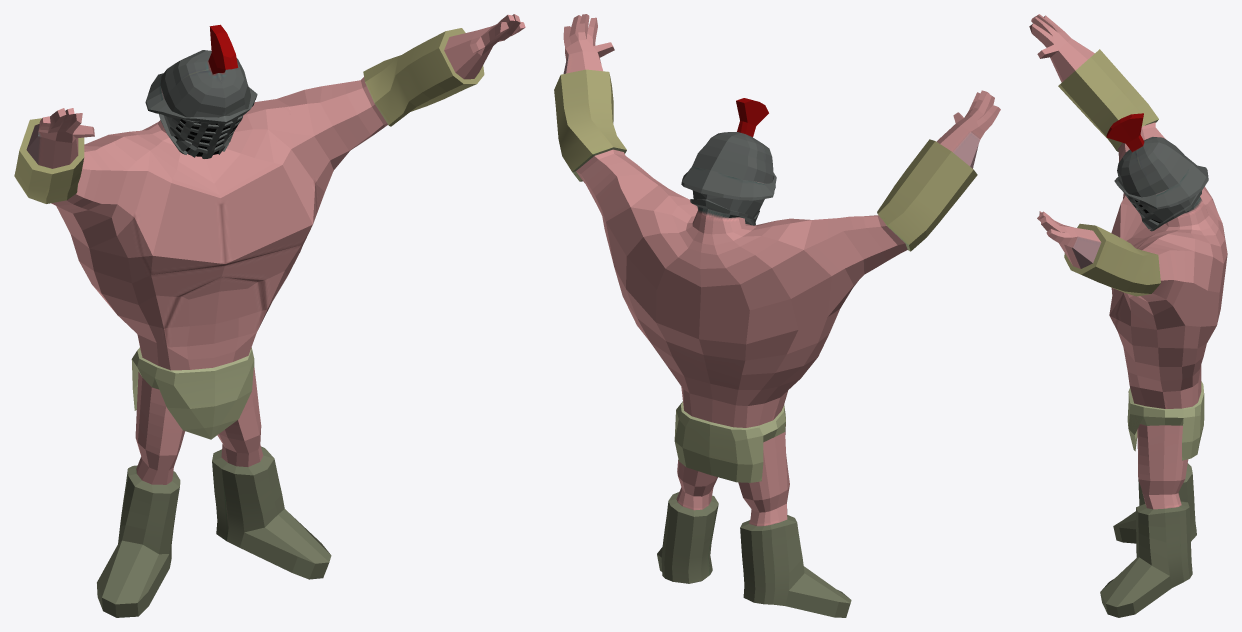
Rendered from GladiatorCelebracion_000542.obj.
The picture shows the model from 3 angles, left to right: view 1: azimuth 30°, elevation 25°; view 2: azimuth 150°, elevation 25°; view 3: azimuth 270°, elevation 25°; orthographic projection. The views are drawn at different scales.
Parts seen in each view (by area): view 1: Gadiador_Gladiador_H; view 2: Gadiador_Gladiador_H; view 3: Gadiador_Gladiador_H.
Part boxes in pixels (x1,y1,x2,y2): Gadiador_Gladiador_H: (14, 14, 525, 617); Gadiador_Gladiador_H: (554, 14, 1000, 617); Gadiador_Gladiador_H: (1029, 14, 1227, 617).
Size of the model in its own units: 6.83 by 7.71 by 2.9.
Materials: 1 (1 with a texture image).
